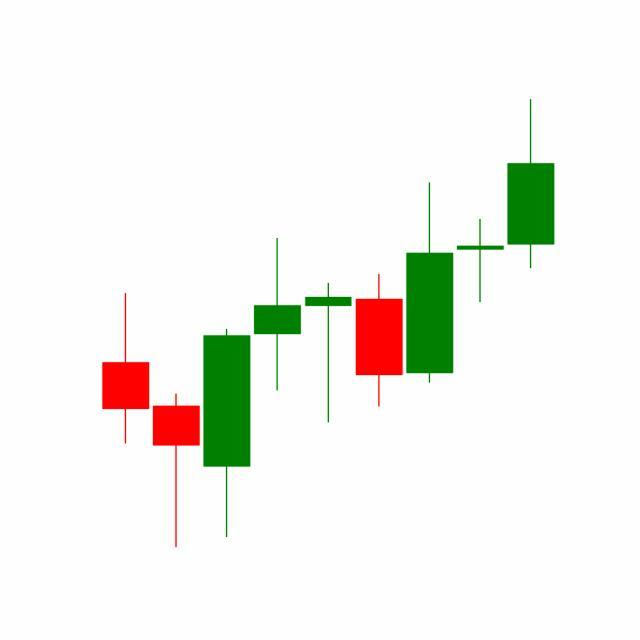Hikkake Pattern: (302, 100, 555, 429)
